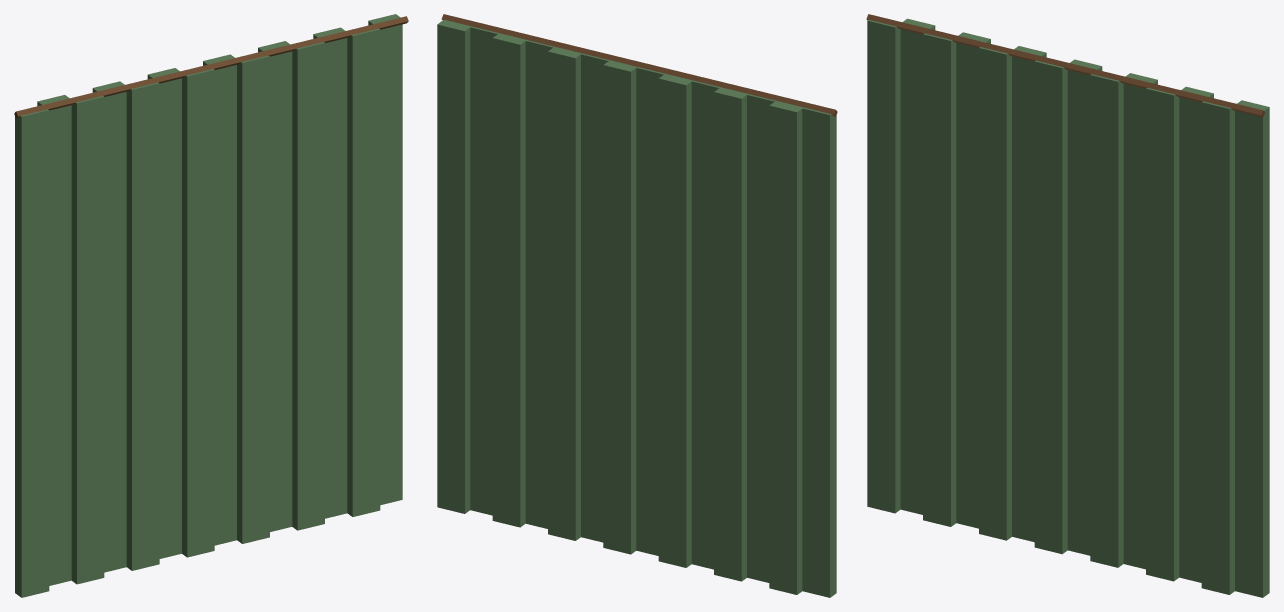
The model's file is GH_Curtains_Closed_01.glb.
3 views of the same model, side by side, from view 1: azimuth 30°, elevation 25°; view 2: azimuth 150°, elevation 25°; view 3: azimuth 330°, elevation 25° (orthographic).
Visible parts, largest first — view 1: GH_Curtains_Closed_01; view 2: GH_Curtains_Closed_01; view 3: GH_Curtains_Closed_01.
Part boxes in pixels (box(x1,y1,x2,y2)): GH_Curtains_Closed_01: box(14, 14, 408, 597); GH_Curtains_Closed_01: box(437, 14, 837, 597); GH_Curtains_Closed_01: box(866, 14, 1269, 597).
Size of the model in its own units: 1.7 by 2.02 by 0.09.
1 material, 1 textured.
